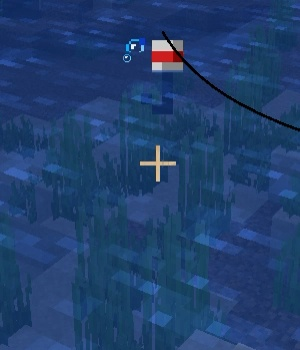up: (148, 33, 192, 127)
